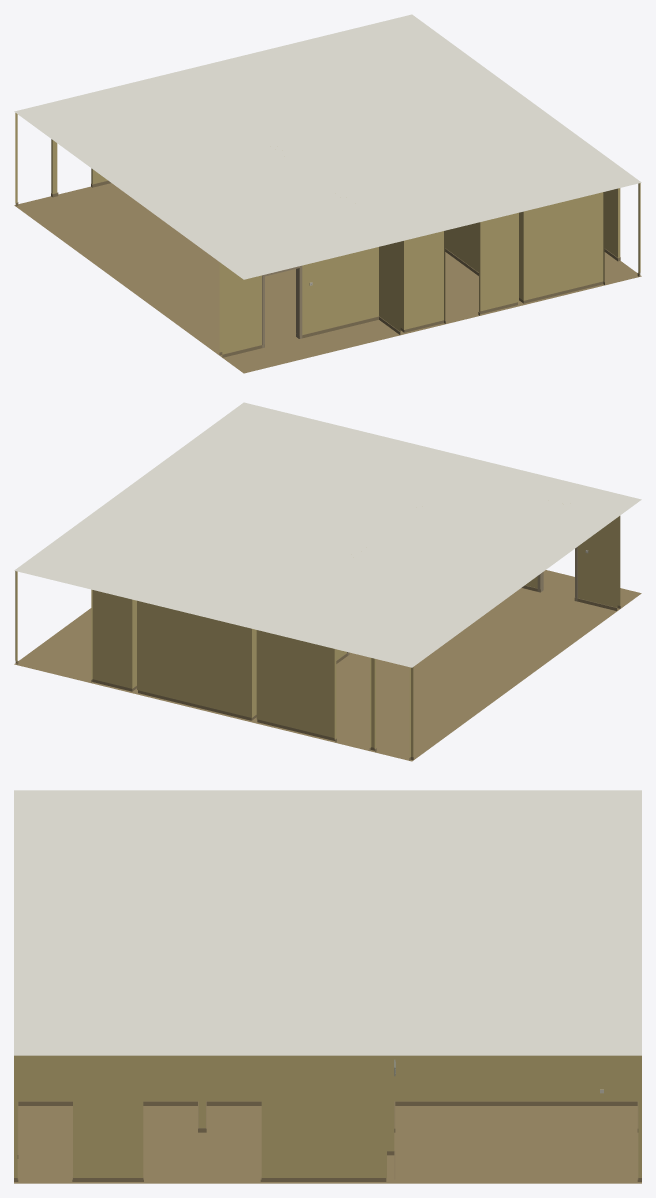
Rendered from chunk_1_4.glb.
The picture shows the model from 3 angles, top to bottom: view 1: azimuth 30°, elevation 25°; view 2: azimuth 150°, elevation 25°; view 3: azimuth 270°, elevation 25°; orthographic projection. The views are drawn at different scales.
Visible parts, largest first — view 1: chunk_1_4; view 2: chunk_1_4; view 3: chunk_1_4.
Part boxes in pixels (bbox=[...]): chunk_1_4: bbox=[14, 14, 641, 373]; chunk_1_4: bbox=[14, 402, 641, 761]; chunk_1_4: bbox=[14, 790, 641, 1183].
Bounding box in the file's own units: 12.11 × 2.7 × 12.
